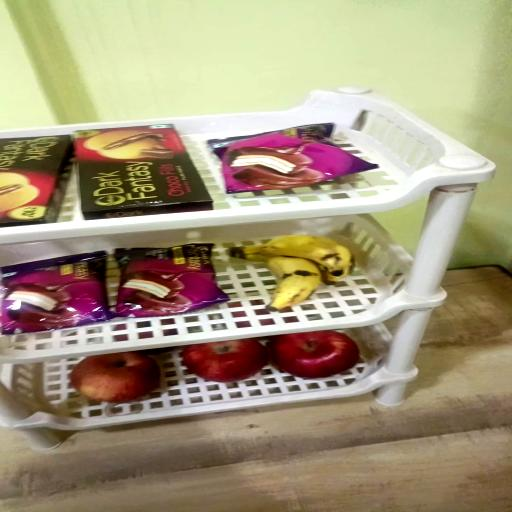Apple: (69, 352, 158, 403), (270, 331, 360, 378), (183, 339, 270, 382)
Choco Fills: (75, 127, 212, 222), (0, 138, 74, 230)
Choco Pie: (209, 123, 380, 193), (0, 252, 113, 335), (114, 246, 228, 318)
